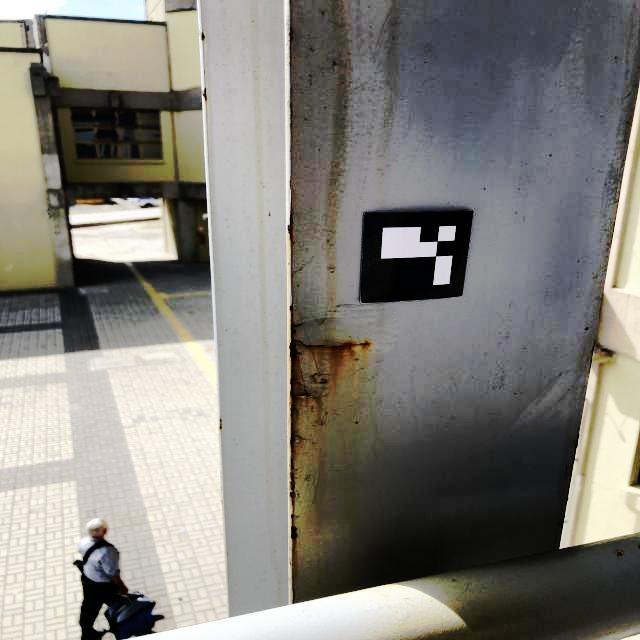Corrosion: (288, 304, 371, 361), (288, 368, 314, 398), (288, 400, 300, 451), (297, 358, 309, 394), (287, 205, 294, 249), (288, 462, 295, 505), (287, 27, 294, 68), (312, 372, 333, 384), (290, 513, 298, 540), (573, 434, 580, 462), (588, 345, 593, 375), (288, 454, 296, 470), (202, 87, 208, 104), (200, 31, 206, 43), (219, 417, 223, 433), (289, 557, 295, 566)
